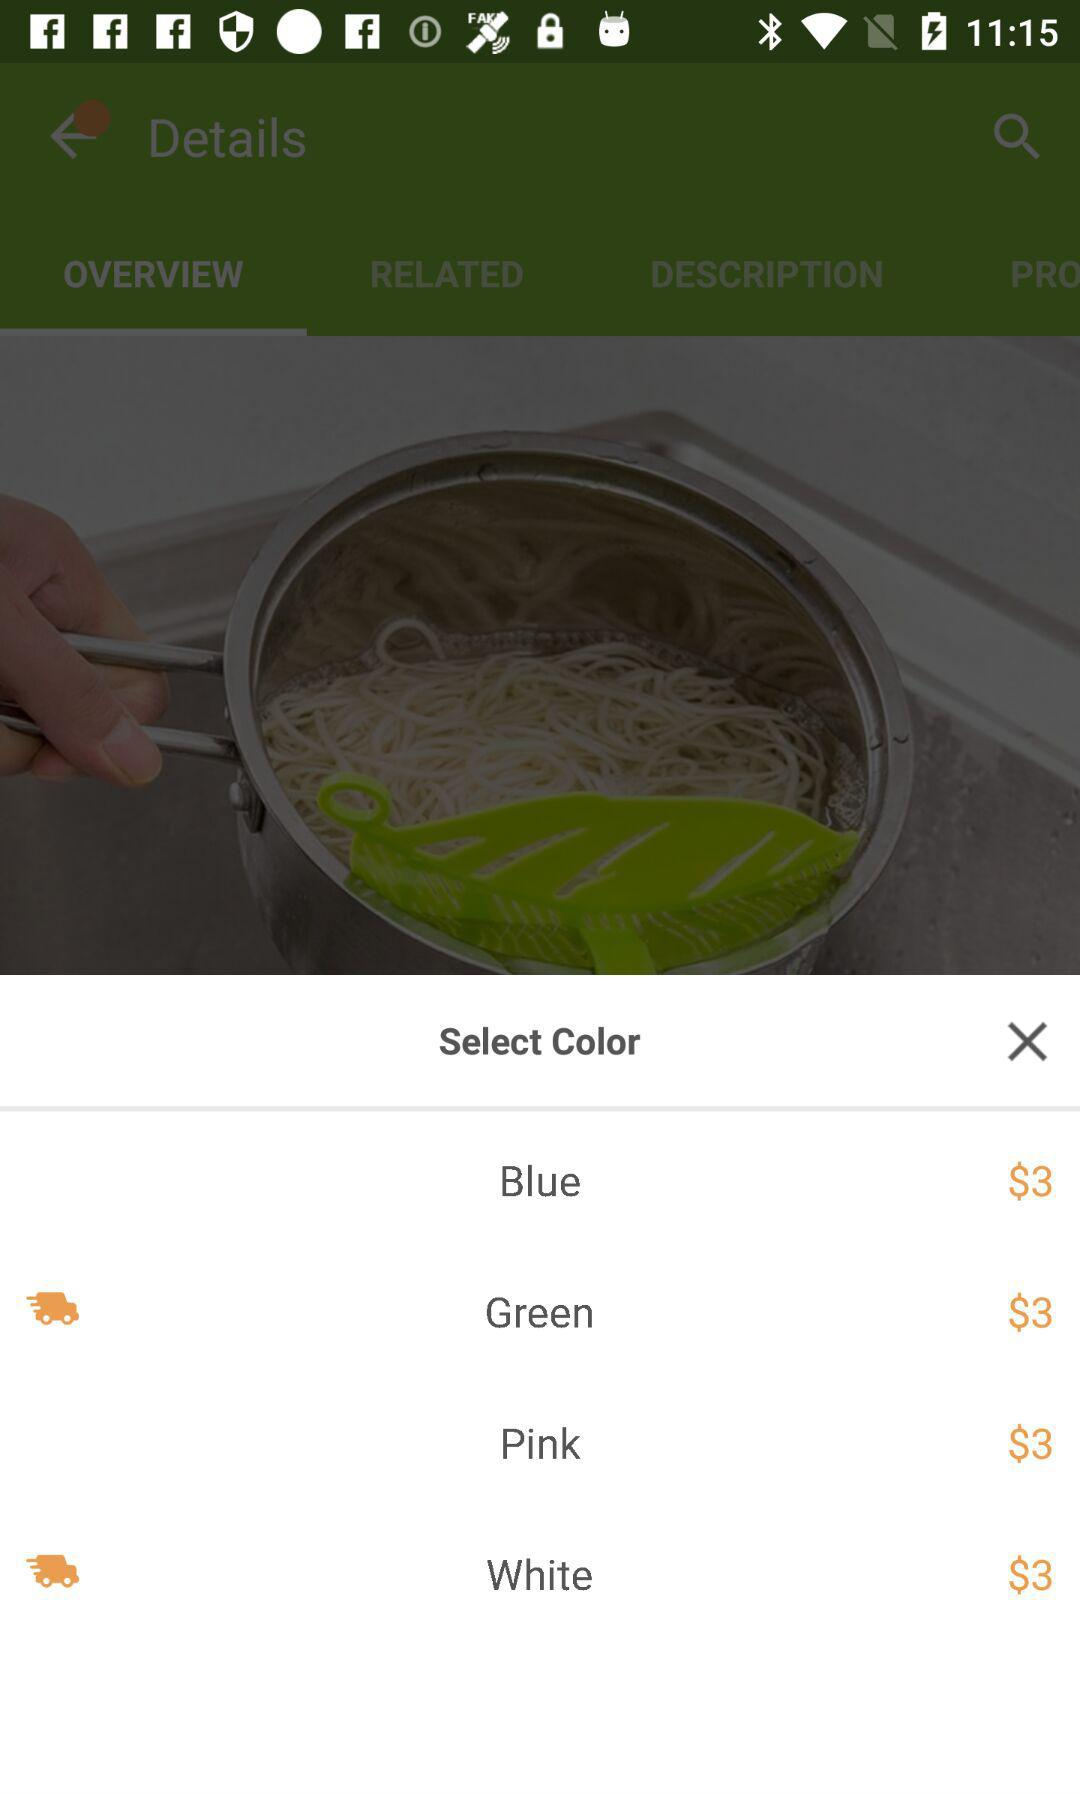Icon: (50, 103, 110, 161), (993, 111, 1043, 163), (1006, 1023, 1048, 1064)
Image: (1, 337, 1080, 973), (26, 1290, 81, 1326), (26, 1554, 81, 1589)
Modal: (1, 975, 1080, 1794)
Text: (149, 117, 306, 160), (650, 260, 881, 290), (439, 1025, 642, 1057), (65, 261, 245, 290), (370, 260, 523, 291), (487, 1557, 594, 1592), (487, 1296, 594, 1330), (501, 1164, 582, 1198), (502, 1426, 583, 1460), (1010, 260, 1080, 292), (1008, 1553, 1053, 1595), (1008, 1422, 1053, 1465), (1008, 1290, 1053, 1333), (1010, 1161, 1052, 1202)
UpperTaskBar: (1, 1, 1080, 64)
